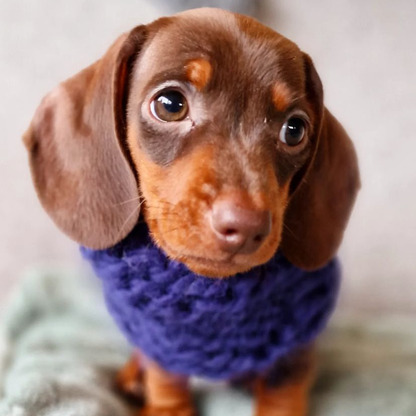dachshund: (57, 3, 359, 400)
